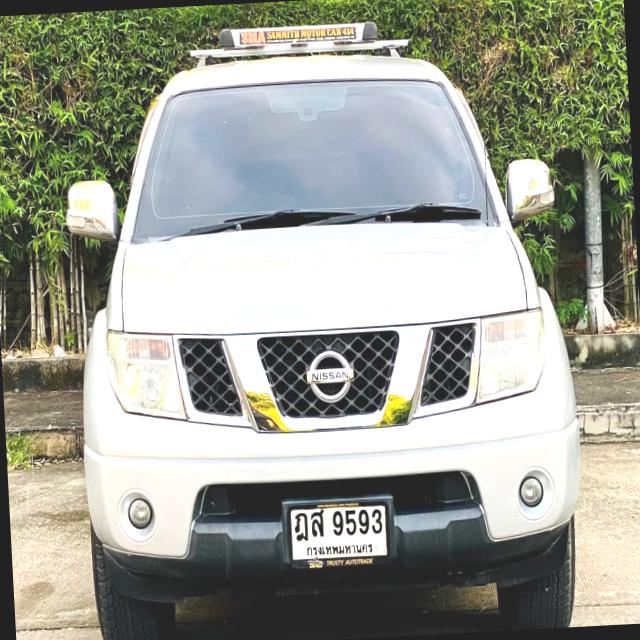license_plate: (276, 489, 399, 574)
